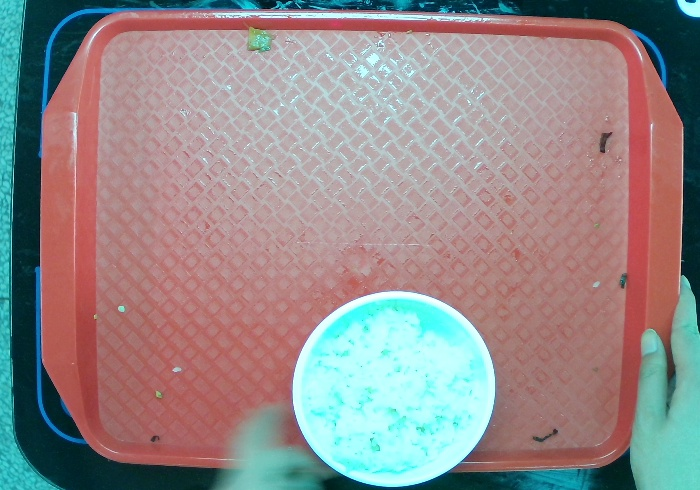YKMZ-Fan_Wan: (284, 276, 502, 490)
